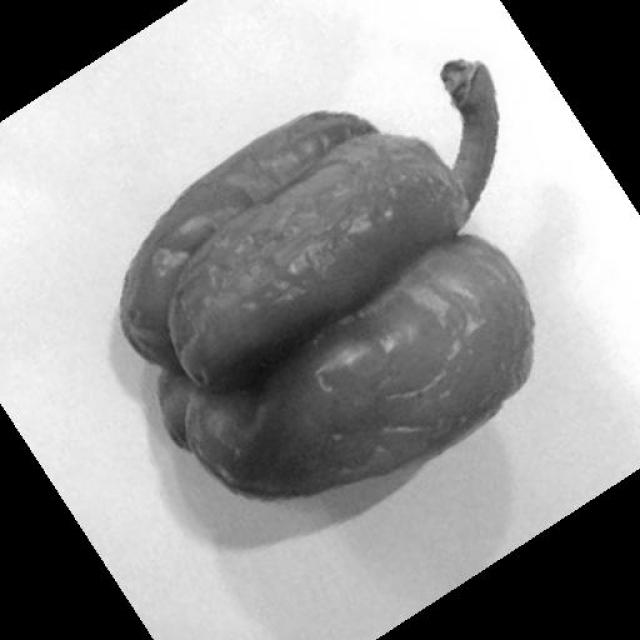Stale_Capsicum: (146, 78, 510, 465)
